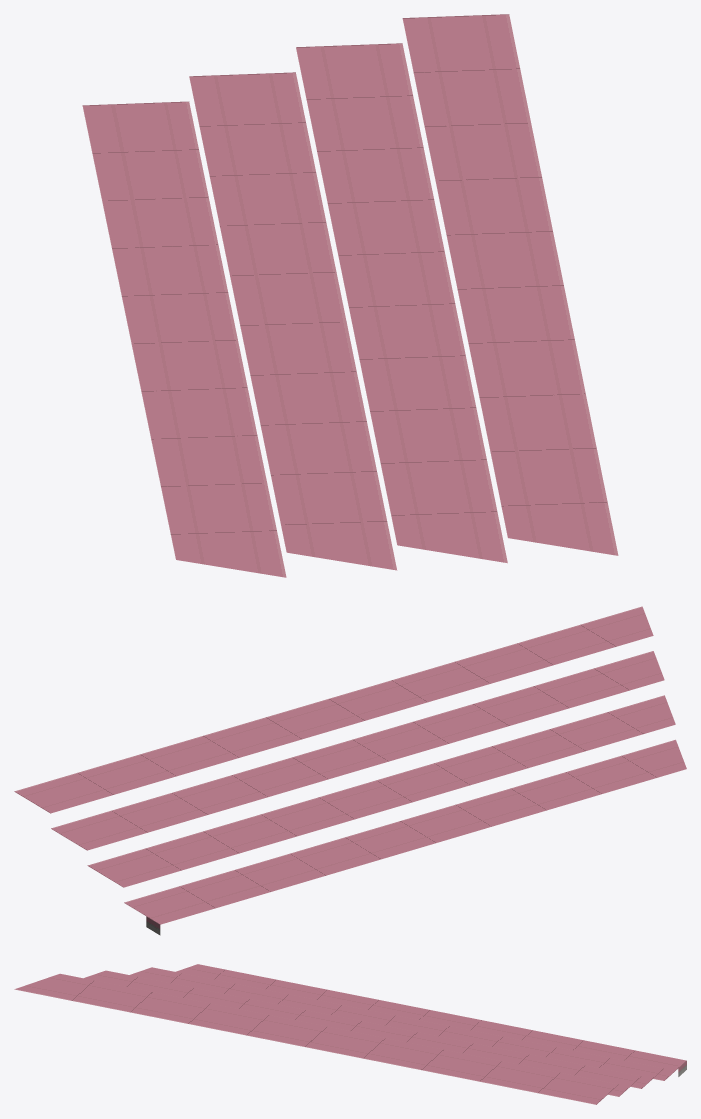
Rendered from kd_stage_135ebf_1_26.glb.
3 views of the same model, one above another, from view 1: azimuth 30°, elevation 25°; view 2: azimuth 150°, elevation 25°; view 3: azimuth 270°, elevation 25° (orthographic). The views are drawn at different scales.
Visible parts, largest first — view 1: kd_stage_135ebf_1_26; view 2: kd_stage_135ebf_1_26; view 3: kd_stage_135ebf_1_26.
Part boxes in pixels (x1=…): kd_stage_135ebf_1_26: x1=82, y1=14, x2=618, y2=577; kd_stage_135ebf_1_26: x1=14, y1=606, x2=686, y2=935; kd_stage_135ebf_1_26: x1=14, y1=964, x2=686, y2=1104.
Bounding box in the file's own units: 5.48 × 0.67 × 8.72.
Materials: 1 (1 with a texture image).
